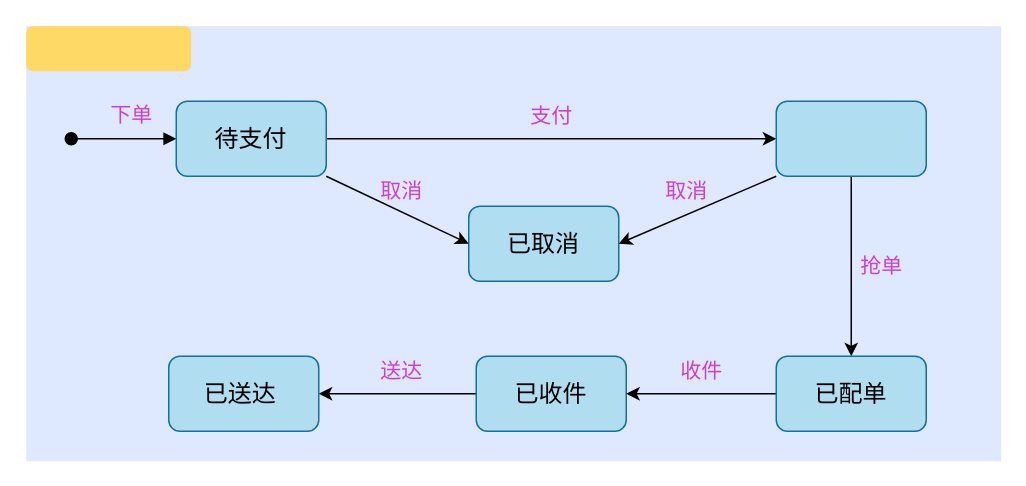
This 1026x486 diagram has some shape labels left out. The shapes that lost their labels are listed below. From the top down, each one's box as (x1, y1, x2, y2) in pixels, then its label:
(26, 26, 190, 70): 订单状态图
(775, 100, 926, 176): 已支付
